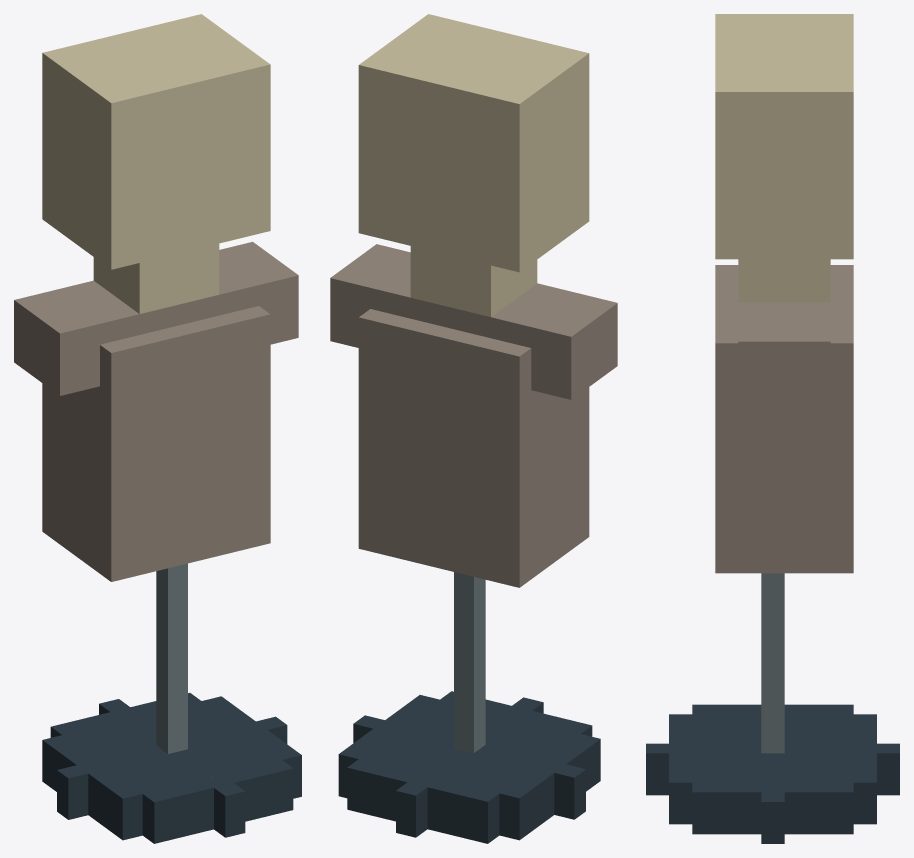
Rendered from photography-13.glb.
The picture shows the model from 3 angles, left to right: view 1: azimuth 30°, elevation 25°; view 2: azimuth 150°, elevation 25°; view 3: azimuth 270°, elevation 25°; orthographic projection.
Parts seen in each view (by area): view 1: Portrait bust; view 2: Portrait bust; view 3: Portrait bust.
Boxes of the visible parts, bbox=[...] form: Portrait bust: bbox=[14, 14, 301, 843]; Portrait bust: bbox=[330, 14, 617, 843]; Portrait bust: bbox=[646, 14, 899, 843].
Bounding box in the file's own units: 0.96 × 2.8 × 0.88.
